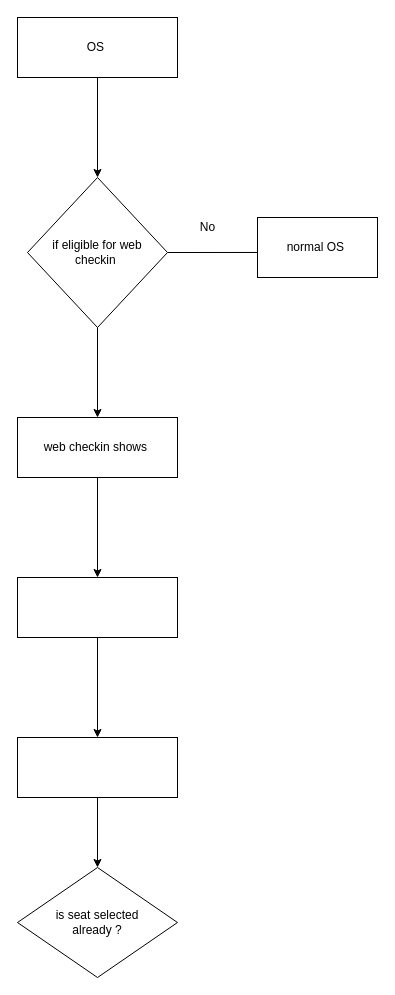
This 395x995 diagram has some shape labels left out. The shapes that lost their labels are listed below. From the top down, each one's centre as x and y in pixels, then its label:
At pixel 97 607: "capture passenger info".
At pixel 97 767: "capture additional passenger info".
